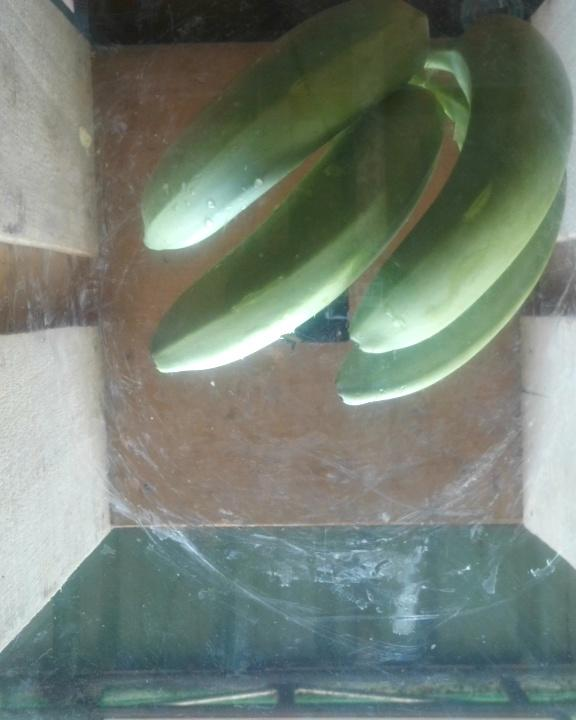SPOT: (128, 1, 576, 412)
